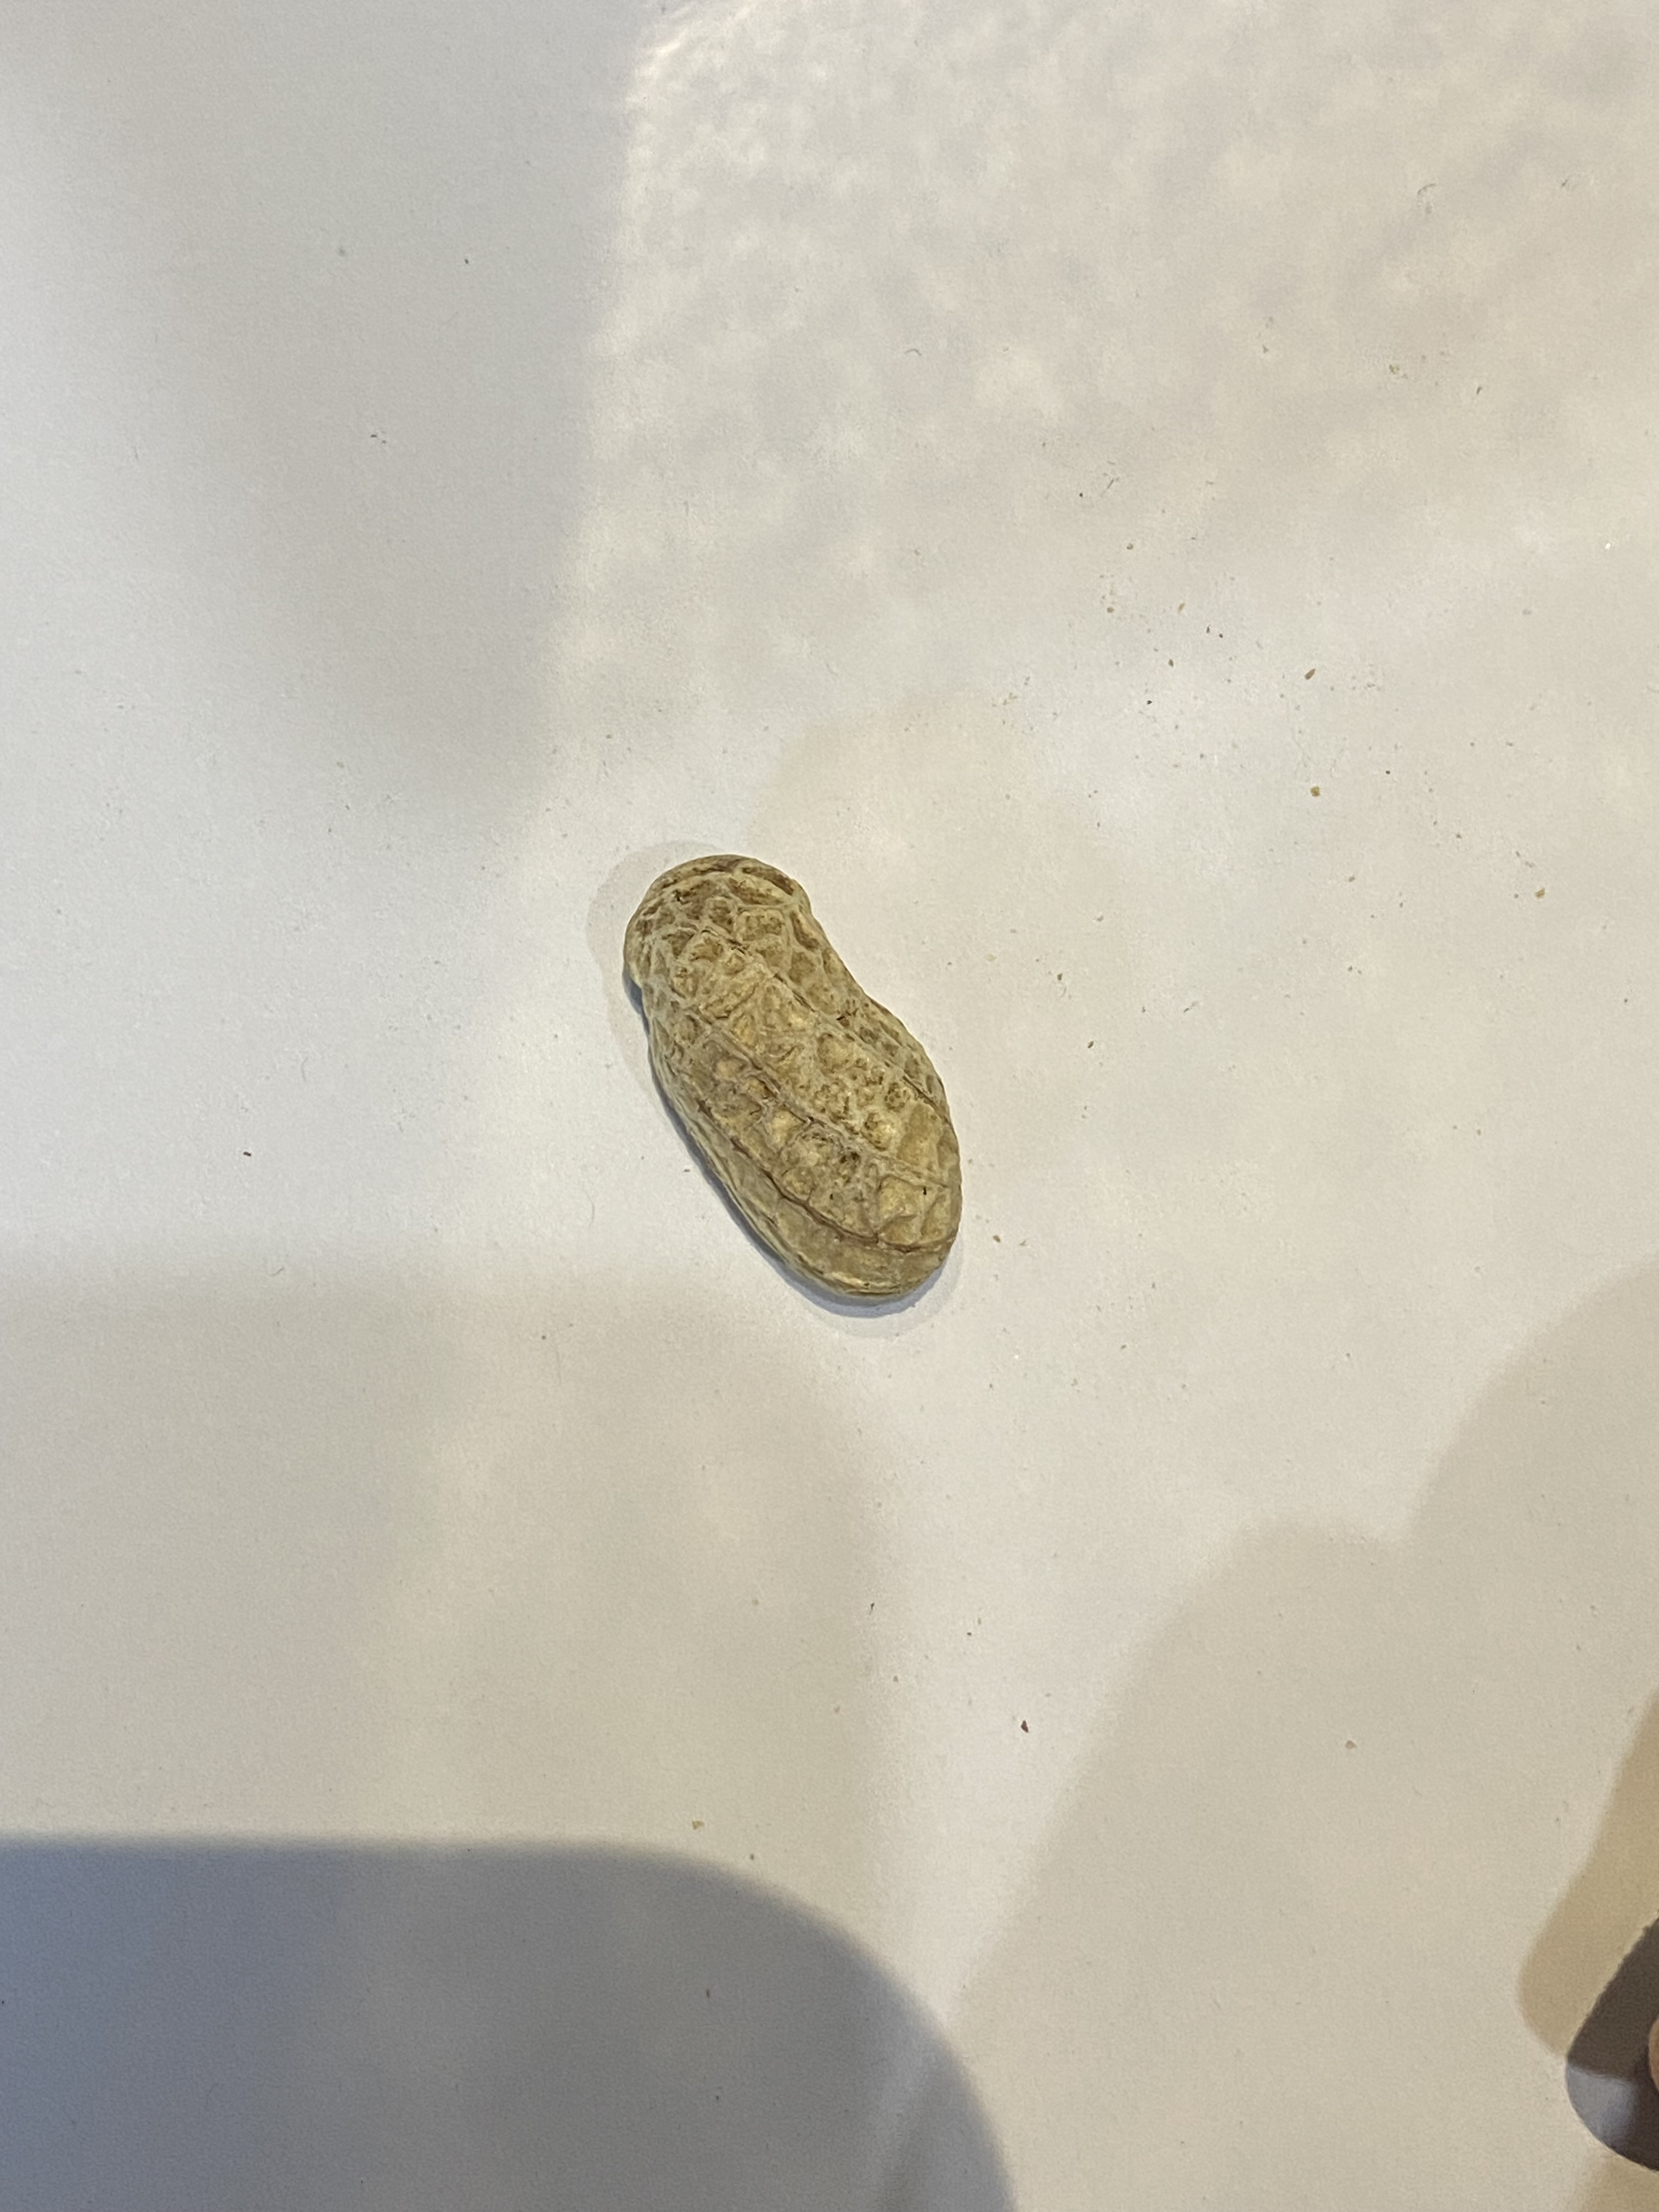kacang2: (594, 841, 1012, 1312)
